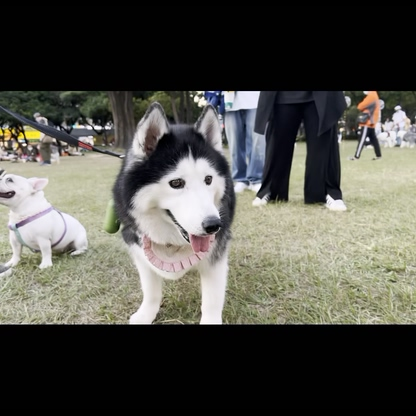bulldog: (1, 166, 91, 272)
husky: (110, 98, 237, 323)
